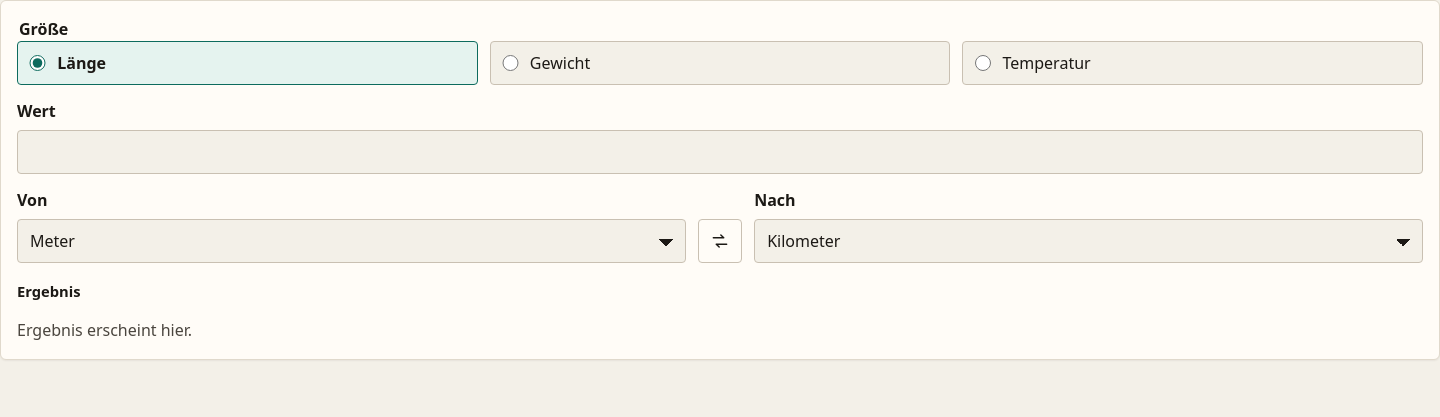
Test: UnitConverterTool › converts a value and reports invalid input
The image size is (1440, 417).
Select "Kilometer" in the dropdown labelled "Von" at (351, 241), box [17,219,686,263]
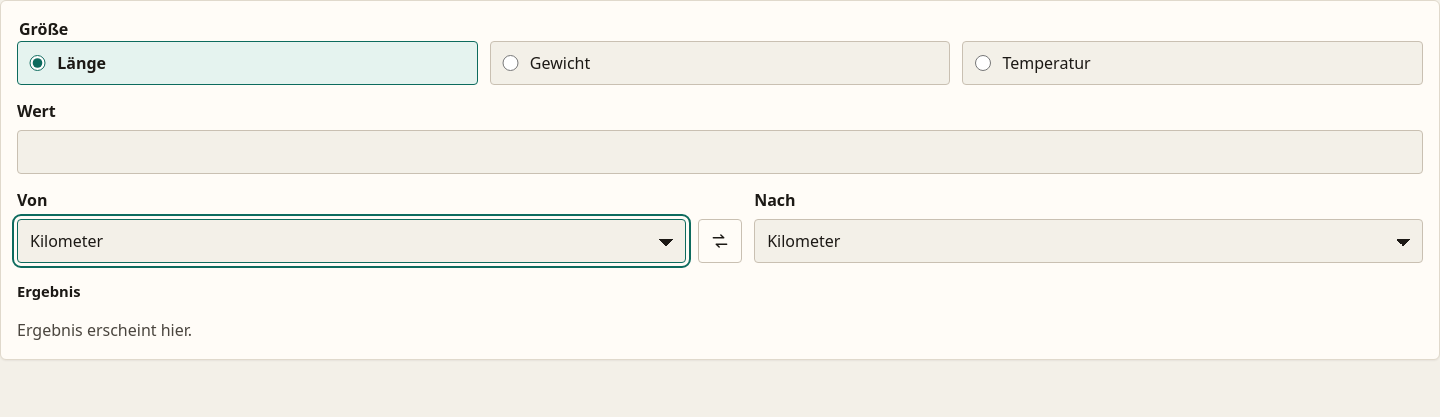
Select "Meter" in the dropdown labelled "Nach" at (1089, 241), box [754,219,1423,263]
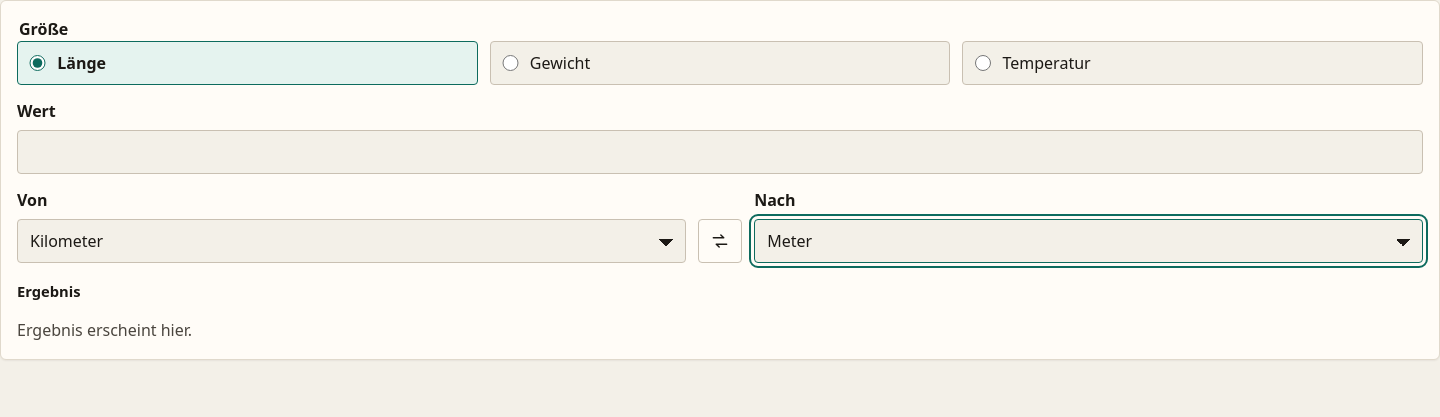
Type "1,5" into the field labelled "Wert" at (720, 152), box [17,130,1423,174]
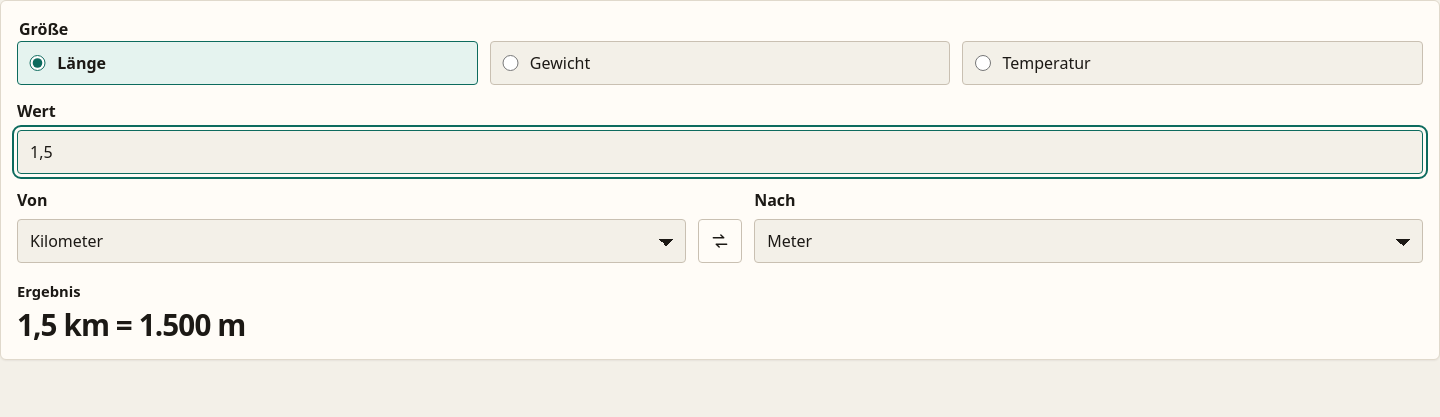
Result: the text "1,5 km = 1.500 m" is shown at [17,304,245,345]
Replace the text in the field labelled "Wert" with "abc" at (720, 152), box [17,130,1423,174]
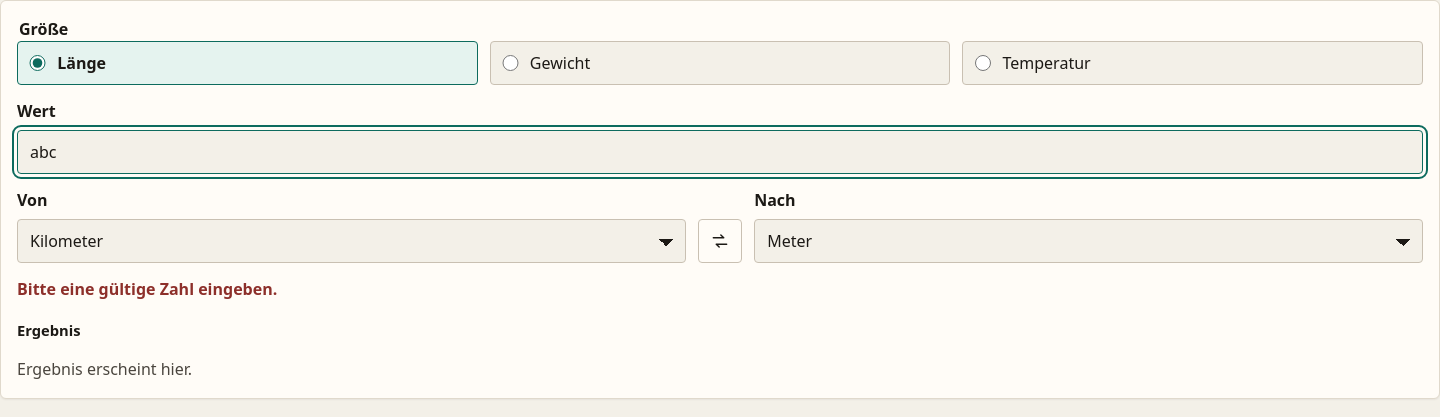
Result: the message reads "Bitte eine gültige Zahl eingeben." at [17,278,277,300]
